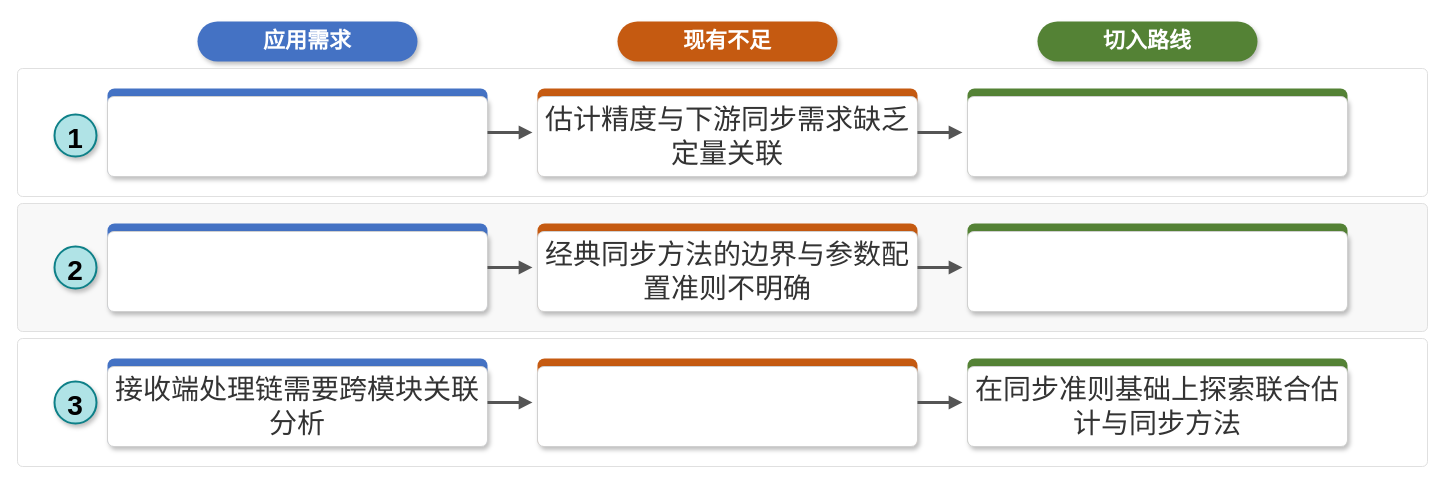
This 1445x484 diagram has some shape labels left out. Here are the shapes that lost their labels. From the top down, the centre of each, then its label:
At (x=298, y=138): "相干接收链路需要可靠信道估计".
At (x=1158, y=138): "建立面向同步的信道估计精度设计准则".
At (x=298, y=272): "湍流下需要稳定载波同步".
At (x=1158, y=272): "建立湍流下载波同步分析框架与配置准则".
At (x=728, y=408): "各模块多独立研究，跨模块影响利用不足".
